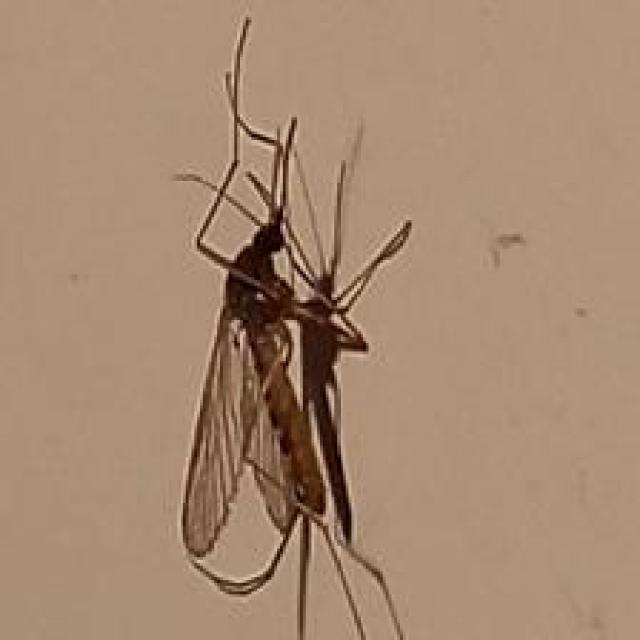Culex: (171, 14, 426, 640)
